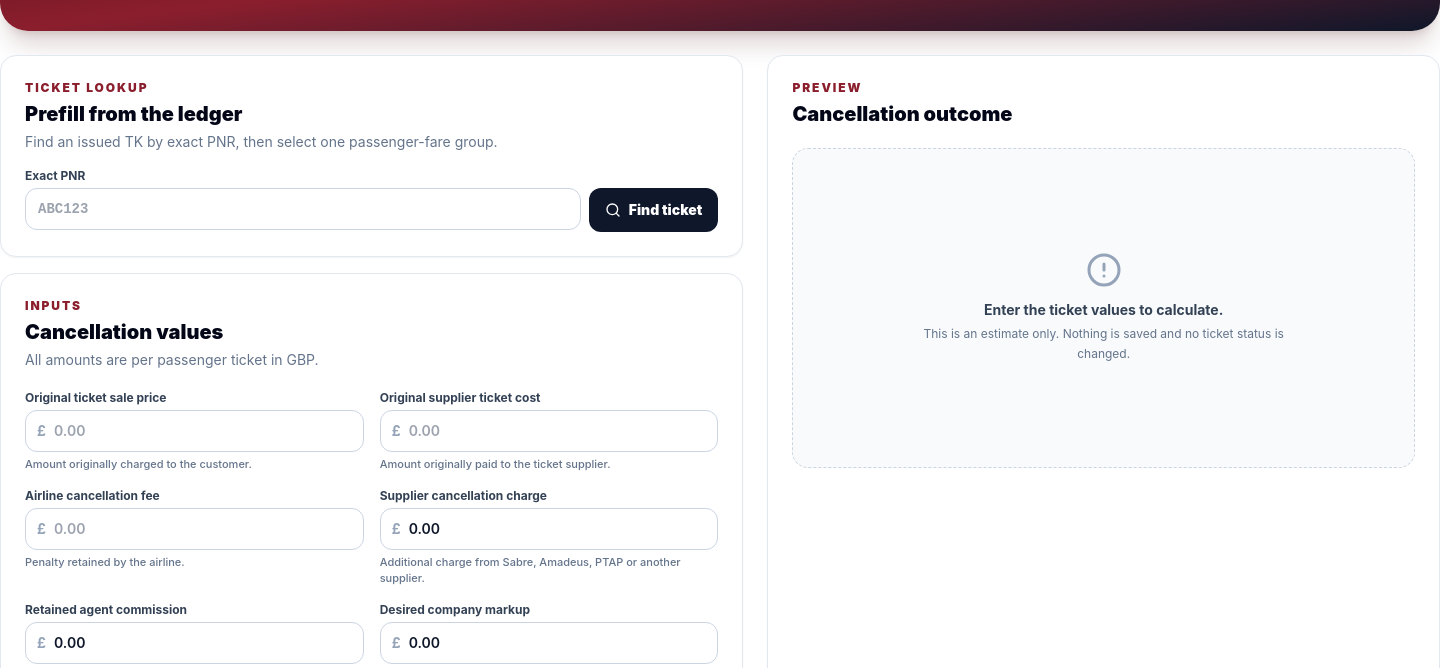
Test: TicketCancellationCalculator › finds an exact issued TK and prefills its single passenger fare
Type "ab c123" into the field named "Exact PNR for cancellation". click: (303, 209)
box: top-left (25, 188), bottom-right (581, 230)
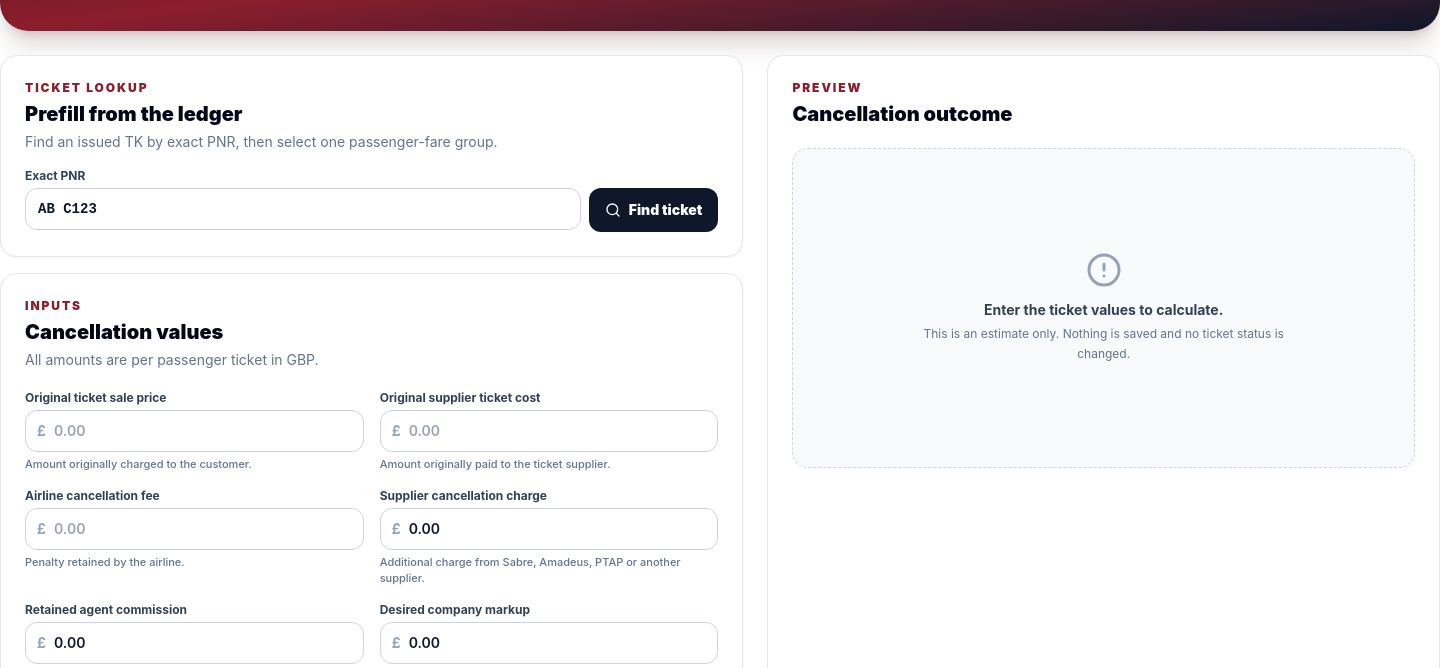
Click the button "Find ticket". click: click(654, 210)
box: top-left (589, 188), bottom-right (718, 232)
(page scrolled)
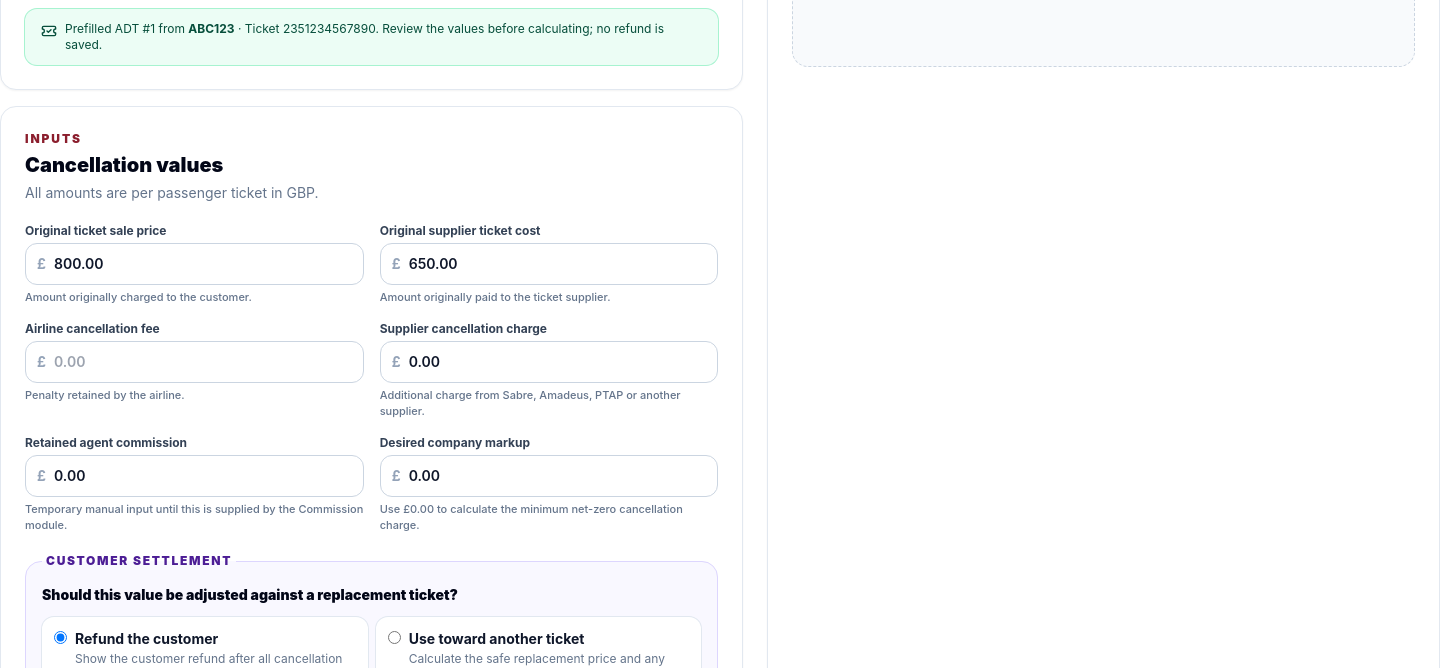
Now the text "Prefilled ADT #1" is shown, box top-left (65, 21), bottom-right (702, 53)
Now the field labelled "Original ticket sale price" holds "800.00", box top-left (25, 243), bottom-right (364, 285)
Now the field labelled "Original supplier ticket cost" holds "650.00", box top-left (380, 243), bottom-right (718, 285)
